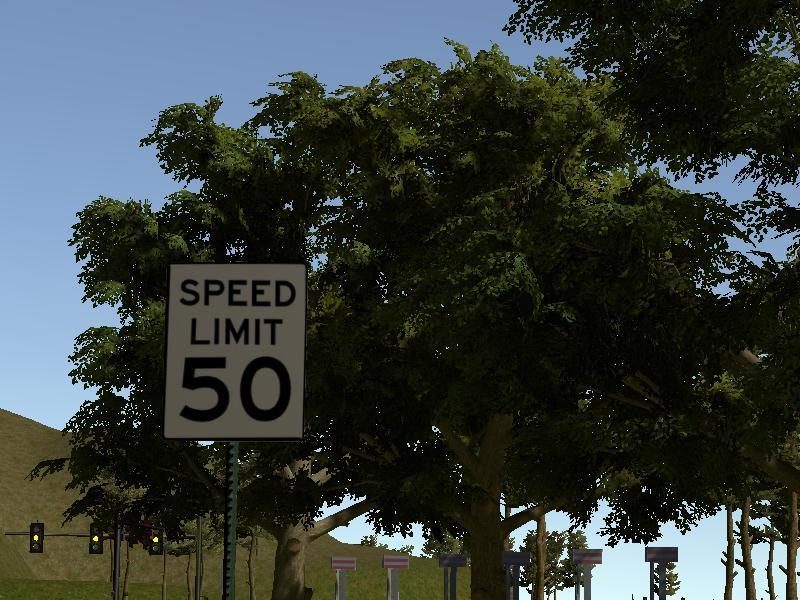Yellow: (28, 523, 45, 554), (89, 524, 103, 554)
